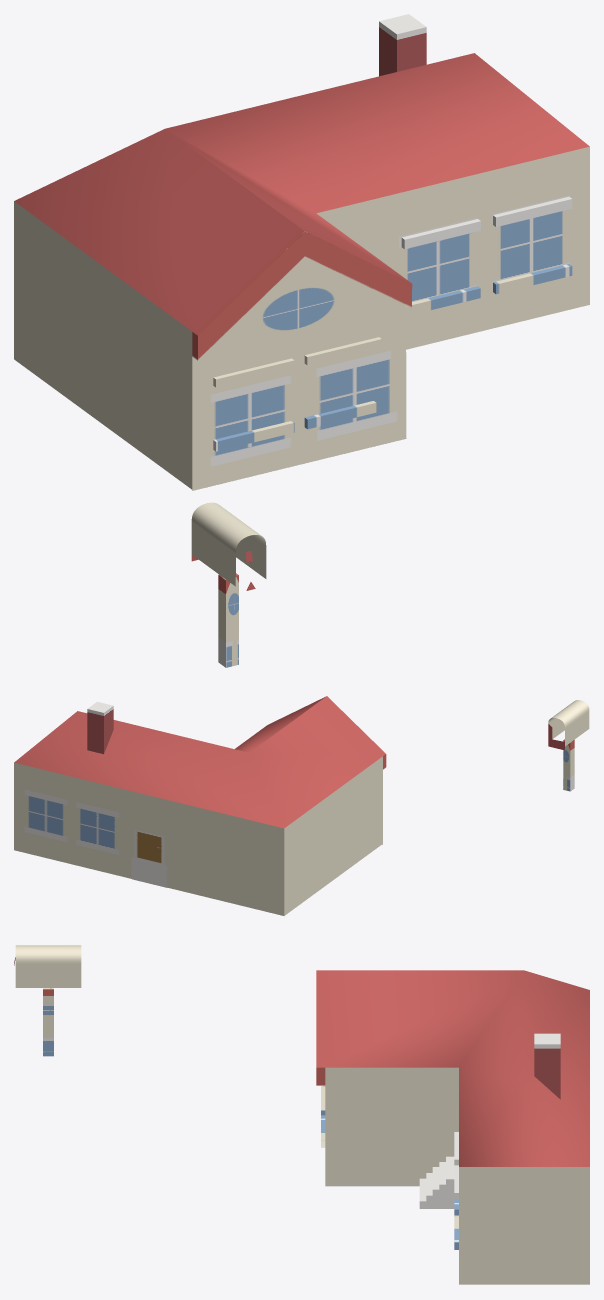
File: HouseSprint2.fbx
3 renders of one model, top to bottom at view 1: azimuth 30°, elevation 25°; view 2: azimuth 150°, elevation 25°; view 3: azimuth 270°, elevation 25°, orthographic. The views are drawn at different scales.
Parts seen in each view (by area): view 1: pCube16, pCube21; view 2: pCube16, pCube21; view 3: pCube16, pCube21.
Part boxes in pixels (x1,y1,x2,y2): pCube16: (14,14,589,490); pCube21: (191,502,266,667); pCube16: (14,696,386,915); pCube21: (548,700,589,791); pCube16: (316,970,589,1284); pCube21: (14,945,81,1056).
Bounding box in the file's own units: 8.55 × 3.38 × 8.8.
